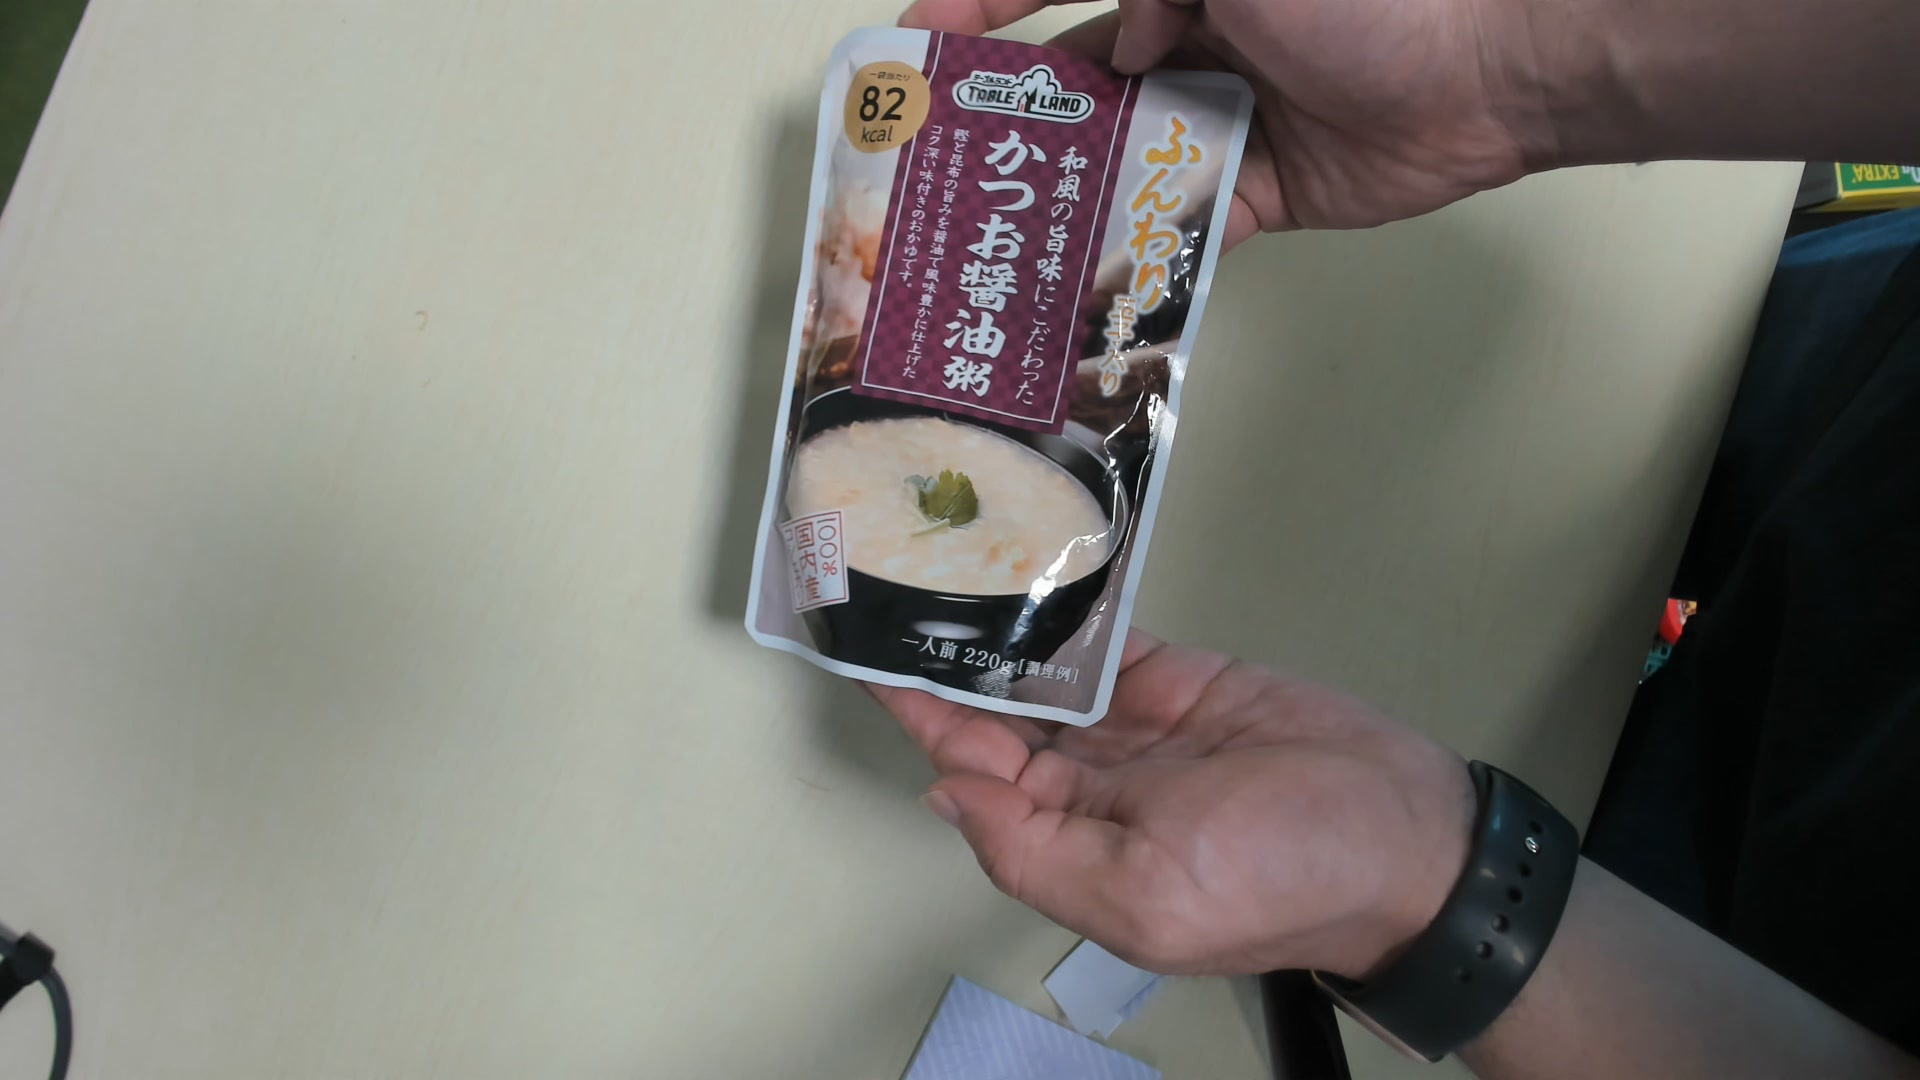InstantMeals_200_299g_NonHalal_NonHealthy: (741, 32, 1250, 736)
